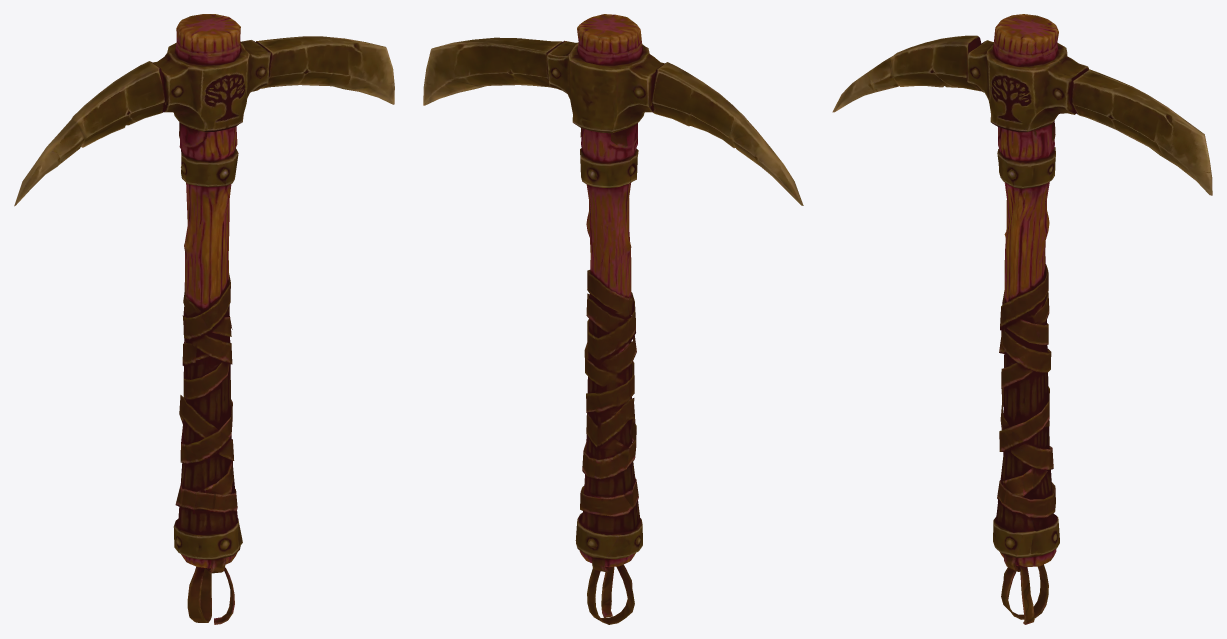
The model's file is spitzhacke.legendaer.glb.
3 views of the same model, side by side, from view 1: azimuth 30°, elevation 25°; view 2: azimuth 150°, elevation 25°; view 3: azimuth 330°, elevation 25° (orthographic).
Visible parts, largest first — view 1: baum; view 2: baum; view 3: baum.
Part boxes in pixels (x1=…): baum: x1=14, y1=14, x2=394, y2=624; baum: x1=423, y1=14, x2=803, y2=624; baum: x1=832, y1=14, x2=1212, y2=624.
Bounding box in the file's own units: 0.5343 × 0.8 × 0.0957.
1 material, 1 textured.
